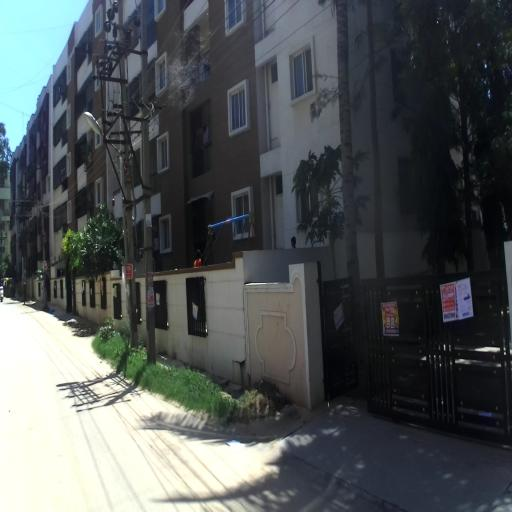street_light_0: (84, 111, 131, 189)
